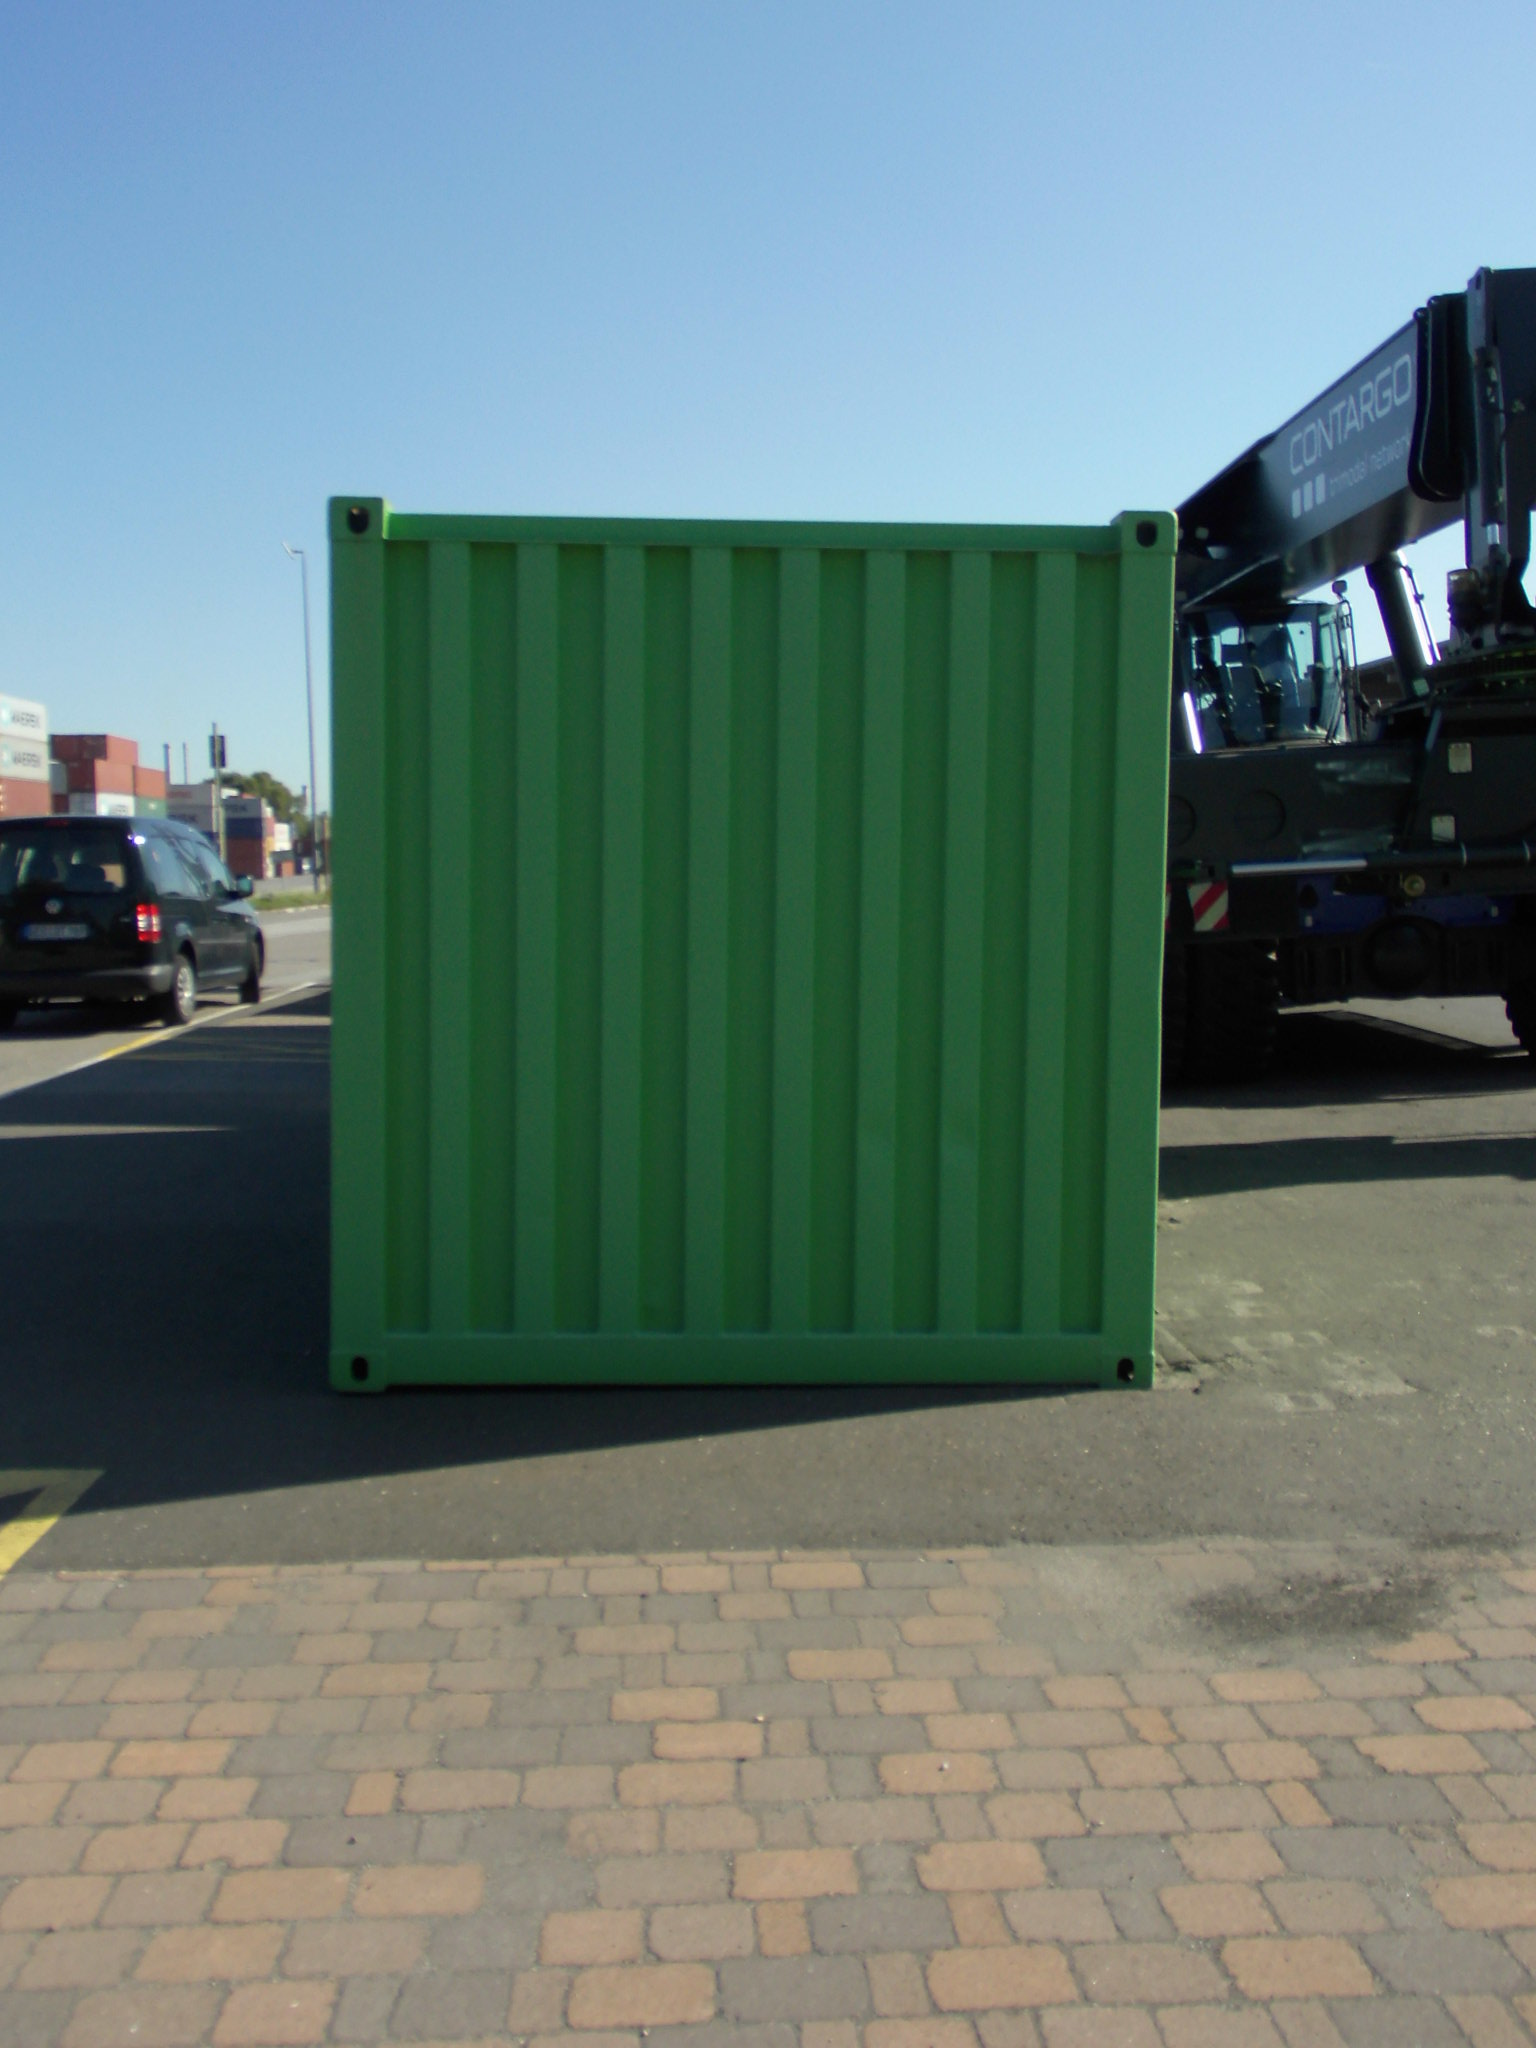container_no_door: (316, 492, 1162, 1392)
